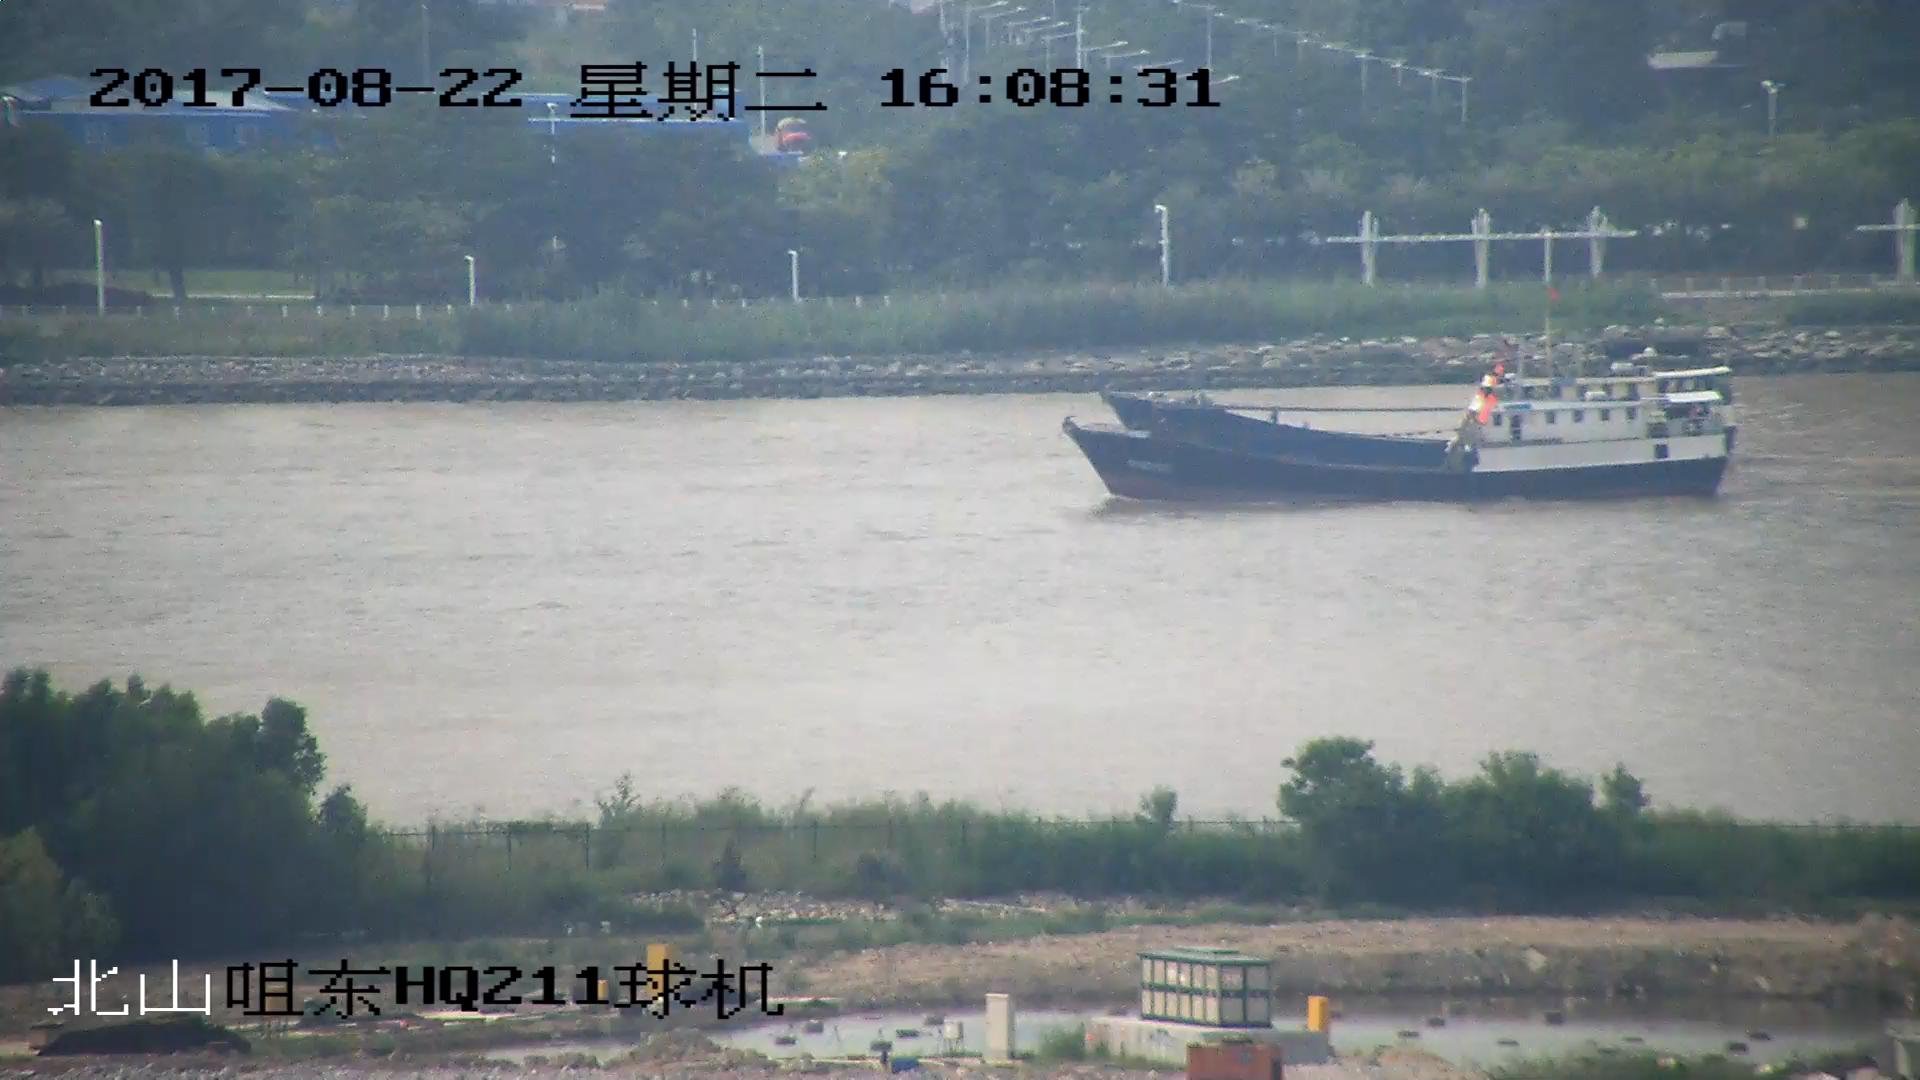fishing boat: (1099, 284, 1744, 471), (1065, 384, 1723, 501)
